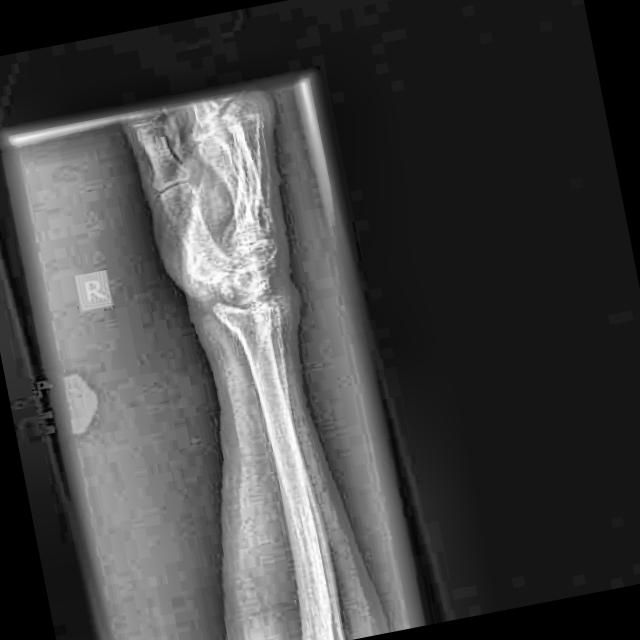fingers positive: (243, 299, 294, 345)
